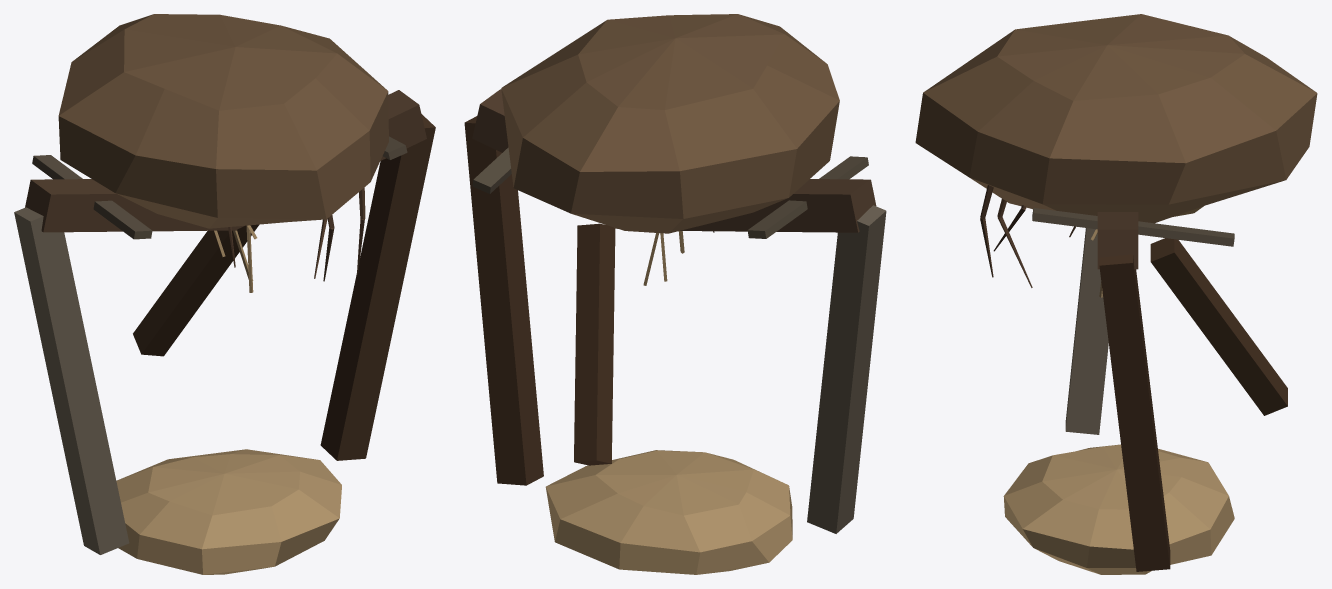
File: TownSag.glb
The picture shows the model from 3 angles, left to right: view 1: azimuth 30°, elevation 25°; view 2: azimuth 150°, elevation 25°; view 3: azimuth 270°, elevation 25°; orthographic projection.
Visible parts, largest first — view 1: TownSag.001; view 2: TownSag.001; view 3: TownSag.001.
Part boxes in pixels (x1=…): TownSag.001: x1=14, y1=14, x2=435, y2=574; TownSag.001: x1=464, y1=14, x2=886, y2=574; TownSag.001: x1=915, y1=14, x2=1317, y2=574.
Size of the model in its own units: 2.75 by 3.29 by 2.38.
